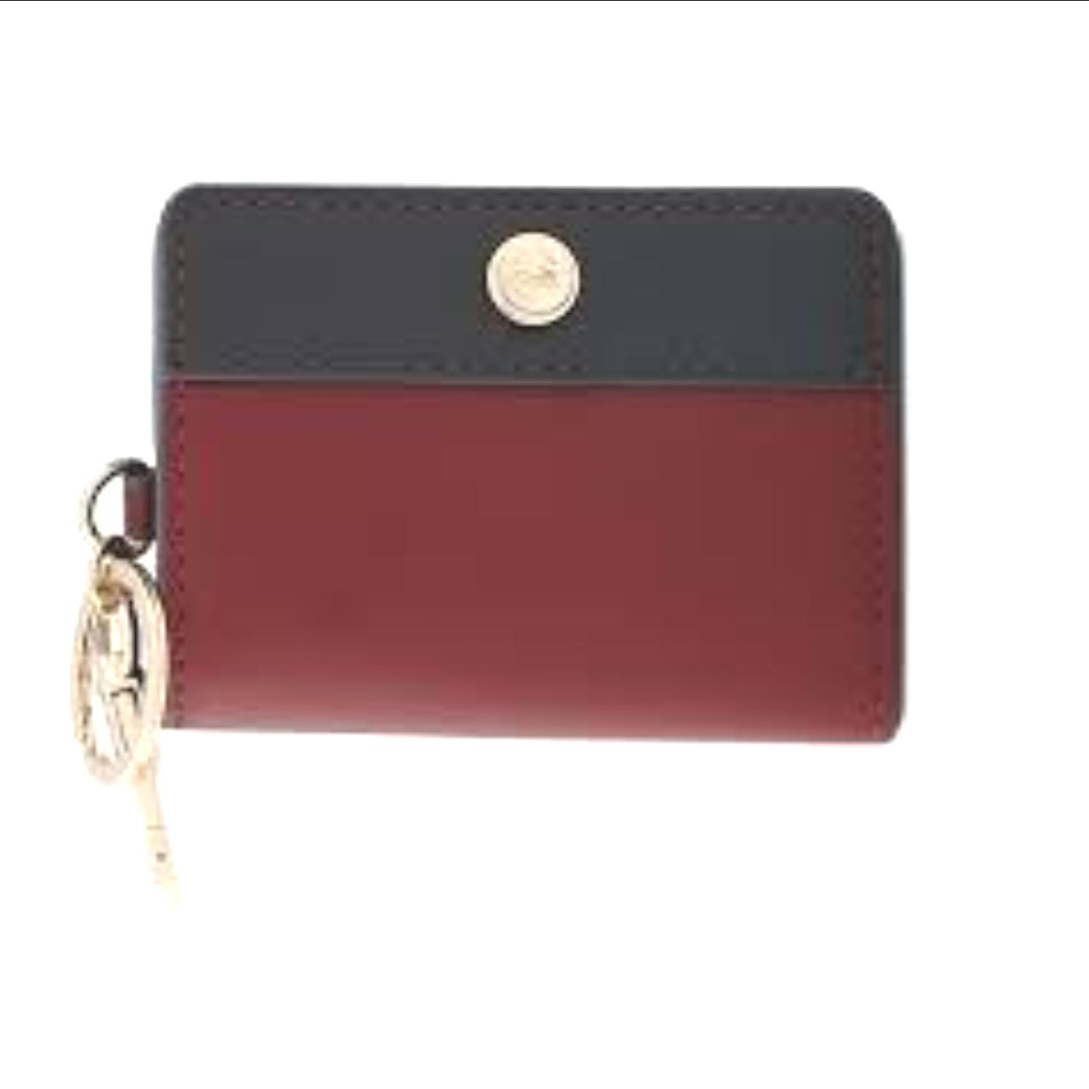wallet: (131, 202, 926, 730)
